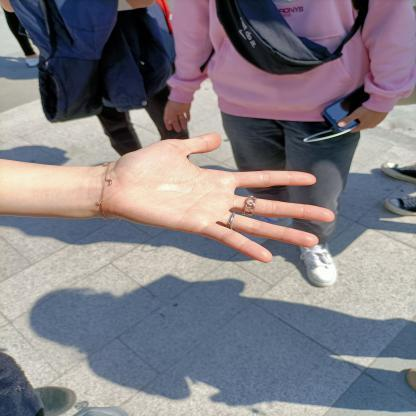bare_hand: (93, 123, 343, 275)
